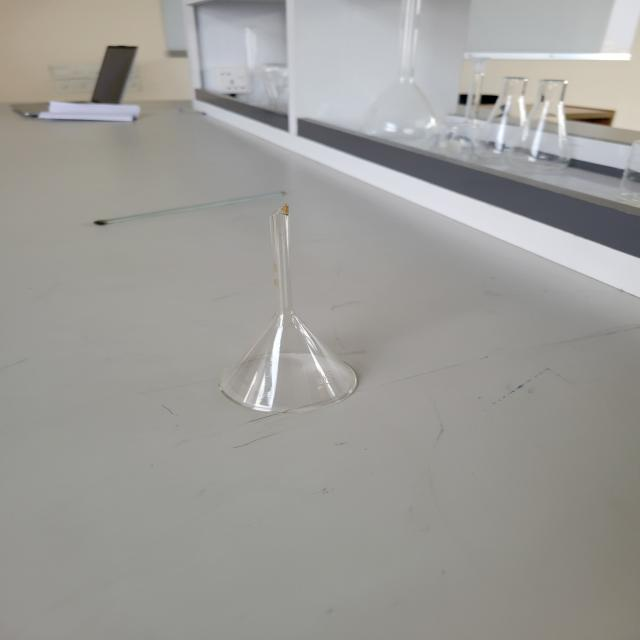Funnel: (189, 162, 402, 446)
